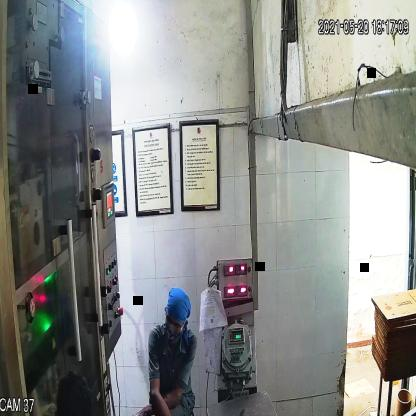goggles: (162, 309, 188, 339)
